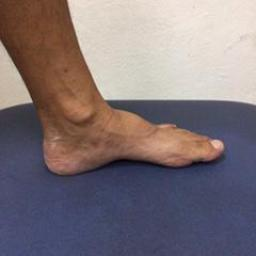Medial View -Left Foot-: (20, 82, 230, 186)
